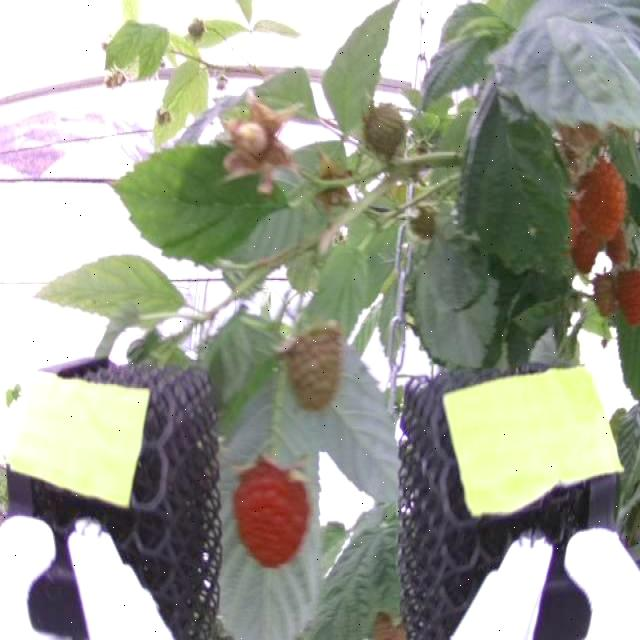Riped berries: (235, 455, 318, 568), (584, 155, 632, 239), (558, 193, 590, 269), (617, 266, 640, 331)
